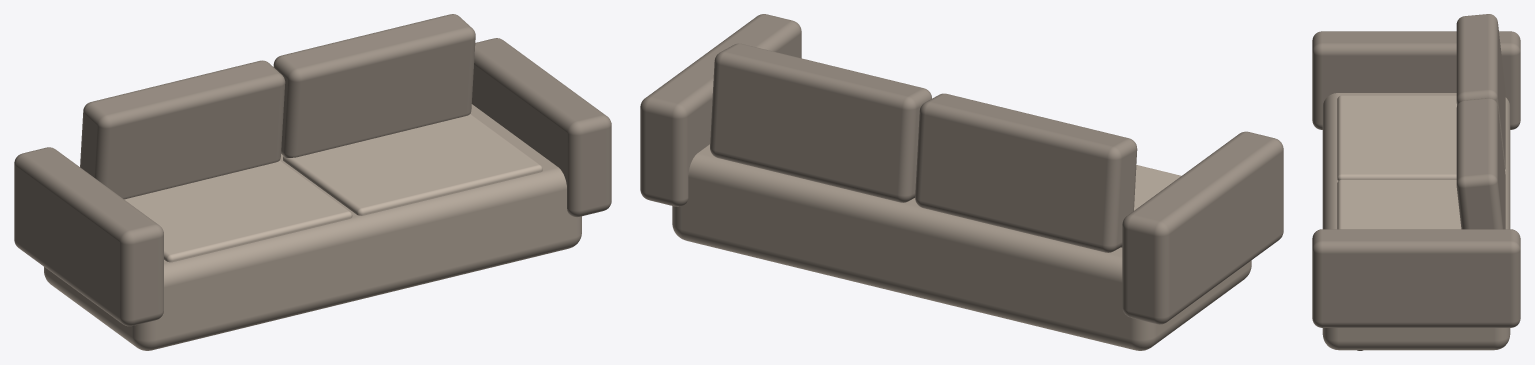
File: justb-pm200.glb
3 views of the same model, side by side, from view 1: azimuth 30°, elevation 25°; view 2: azimuth 150°, elevation 25°; view 3: azimuth 270°, elevation 25° (orthographic). The views are drawn at different scales.
Visible parts, largest first — view 1: seat-base, back-cushion-1, back-cushion-2, arm-left, seat-cushion-2, arm-right, seat-cushion-1; view 2: seat-base, back-cushion-1, back-cushion-2, arm-left, arm-right, seat-cushion-1; view 3: arm-right, arm-left, seat-cushion-1, seat-base, seat-cushion-2, back-cushion-2, back-cushion-1.
Boxes of the visible parts, bbox=[...] form: seat-base: bbox=[44, 104, 581, 350]; back-cushion-1: bbox=[80, 60, 285, 199]; back-cushion-2: bbox=[273, 14, 475, 157]; arm-left: bbox=[14, 147, 163, 326]; seat-cushion-2: bbox=[283, 114, 542, 215]; arm-right: bbox=[472, 38, 611, 217]; seat-cushion-1: bbox=[124, 160, 352, 262]; seat-base: bbox=[672, 144, 1251, 350]; back-cushion-1: bbox=[915, 93, 1137, 252]; back-cushion-2: bbox=[710, 43, 931, 202]; arm-left: bbox=[1122, 131, 1283, 324]; arm-right: bbox=[640, 14, 801, 206]; seat-cushion-1: bbox=[1121, 165, 1181, 247]; arm-right: bbox=[1312, 229, 1520, 327]; arm-left: bbox=[1312, 31, 1520, 129]; seat-cushion-1: bbox=[1337, 95, 1456, 180]; seat-base: bbox=[1322, 93, 1510, 350]; seat-cushion-2: bbox=[1337, 179, 1461, 229]; back-cushion-2: bbox=[1456, 98, 1505, 229]; back-cushion-1: bbox=[1456, 14, 1505, 169].
Size of the model in its own units: 2.27 by 0.8189 by 0.92.
